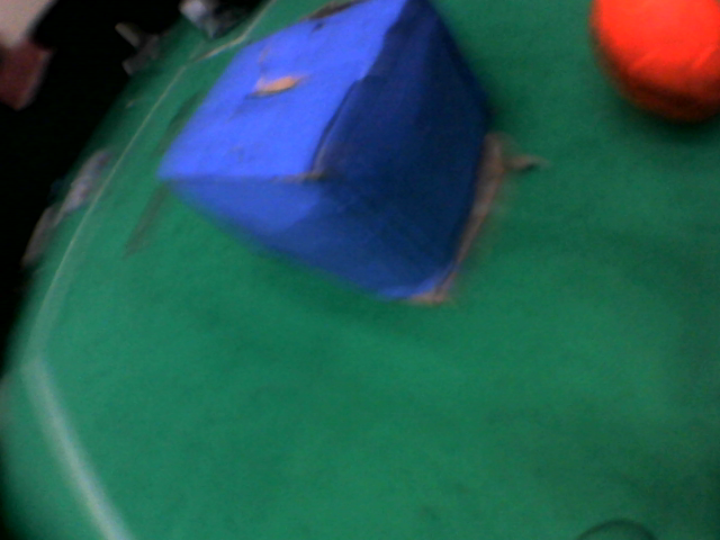bola: (572, 1, 720, 150)
